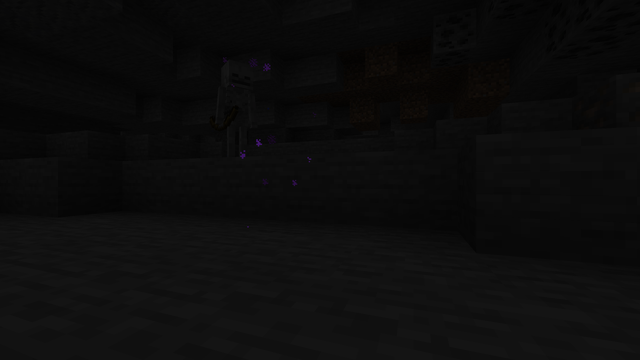squelettes: (215, 59, 256, 141)
